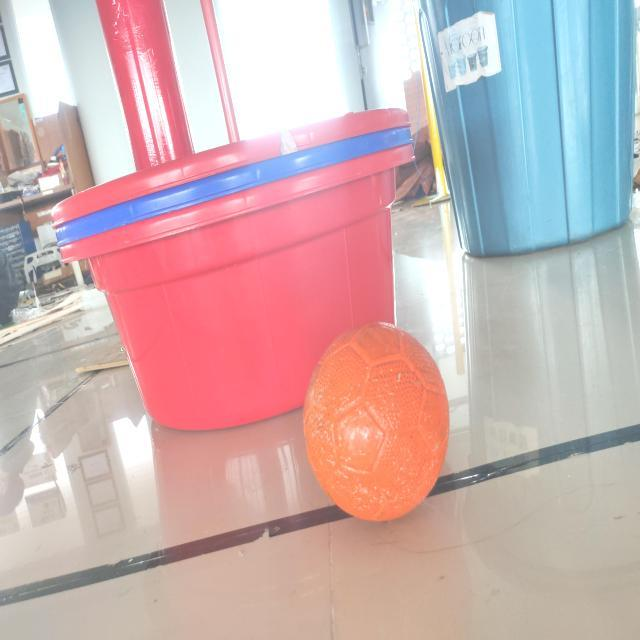bola: (297, 310, 461, 532)
